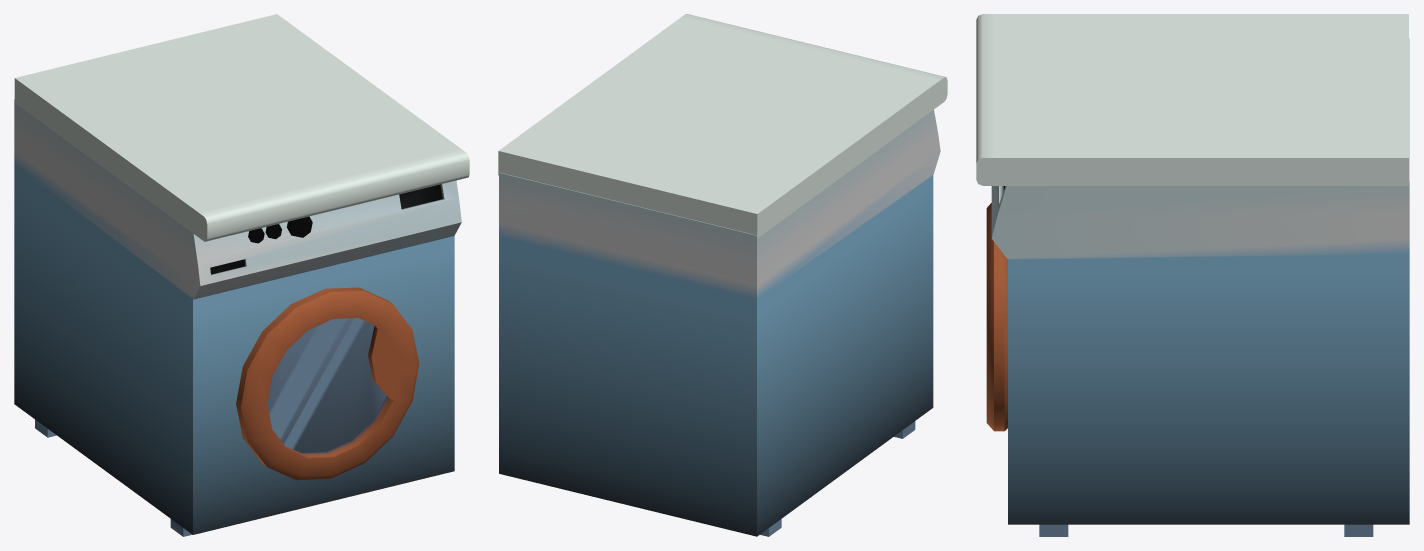
The model's file is WanshingMachine.fbx.
The picture shows the model from 3 angles, left to right: view 1: azimuth 30°, elevation 25°; view 2: azimuth 150°, elevation 25°; view 3: azimuth 270°, elevation 25°; orthographic projection. The views are drawn at different scales.
Visible parts, largest first — view 1: Плоскость, Top; view 2: Плоскость, Top; view 3: Плоскость, Top.
Boxes of the visible parts, <box> form: Плоскость: <box>14,99,461,536</box>; Top: <box>14,14,469,241</box>; Плоскость: <box>499,110,940,536</box>; Top: <box>498,14,947,238</box>; Плоскость: <box>986,38,1409,536</box>; Top: <box>976,14,1408,185</box>.
Size of the model in its own units: 82.32 by 102 by 105.
